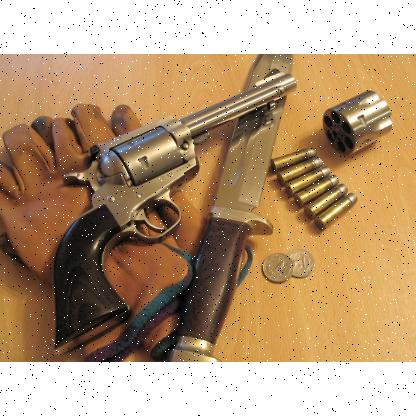gun: (52, 66, 296, 356)
